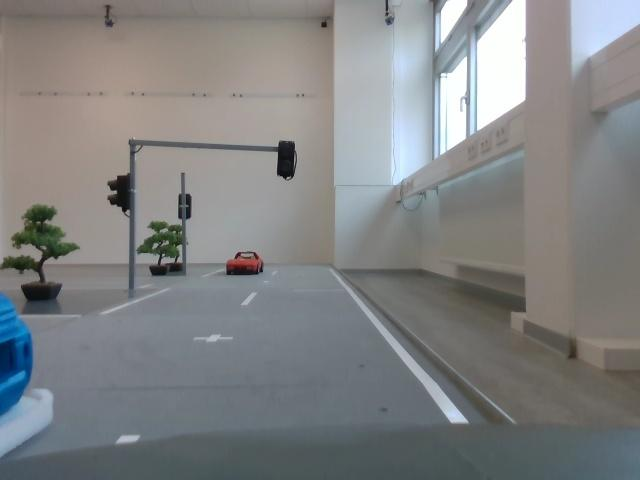car: (225, 251, 266, 275)
potted plant: (1, 200, 83, 310), (139, 221, 174, 277), (166, 224, 188, 276)
traffic light: (107, 170, 134, 219), (278, 142, 299, 185), (179, 195, 194, 221)
